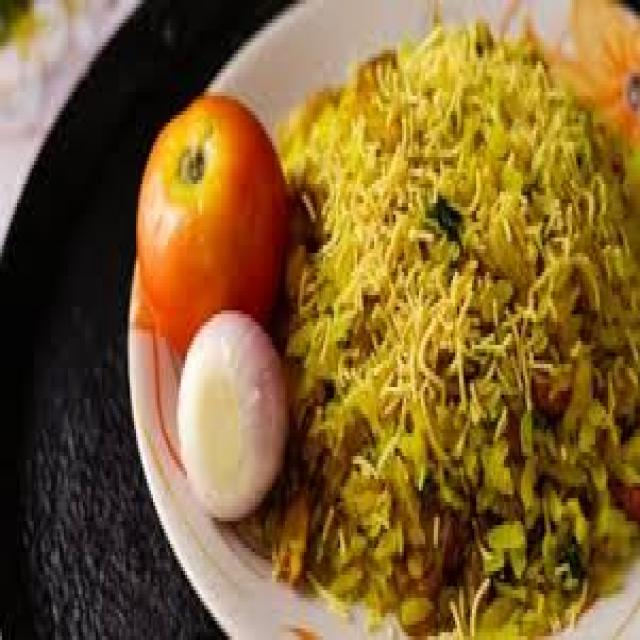POHA: (246, 20, 638, 636)
